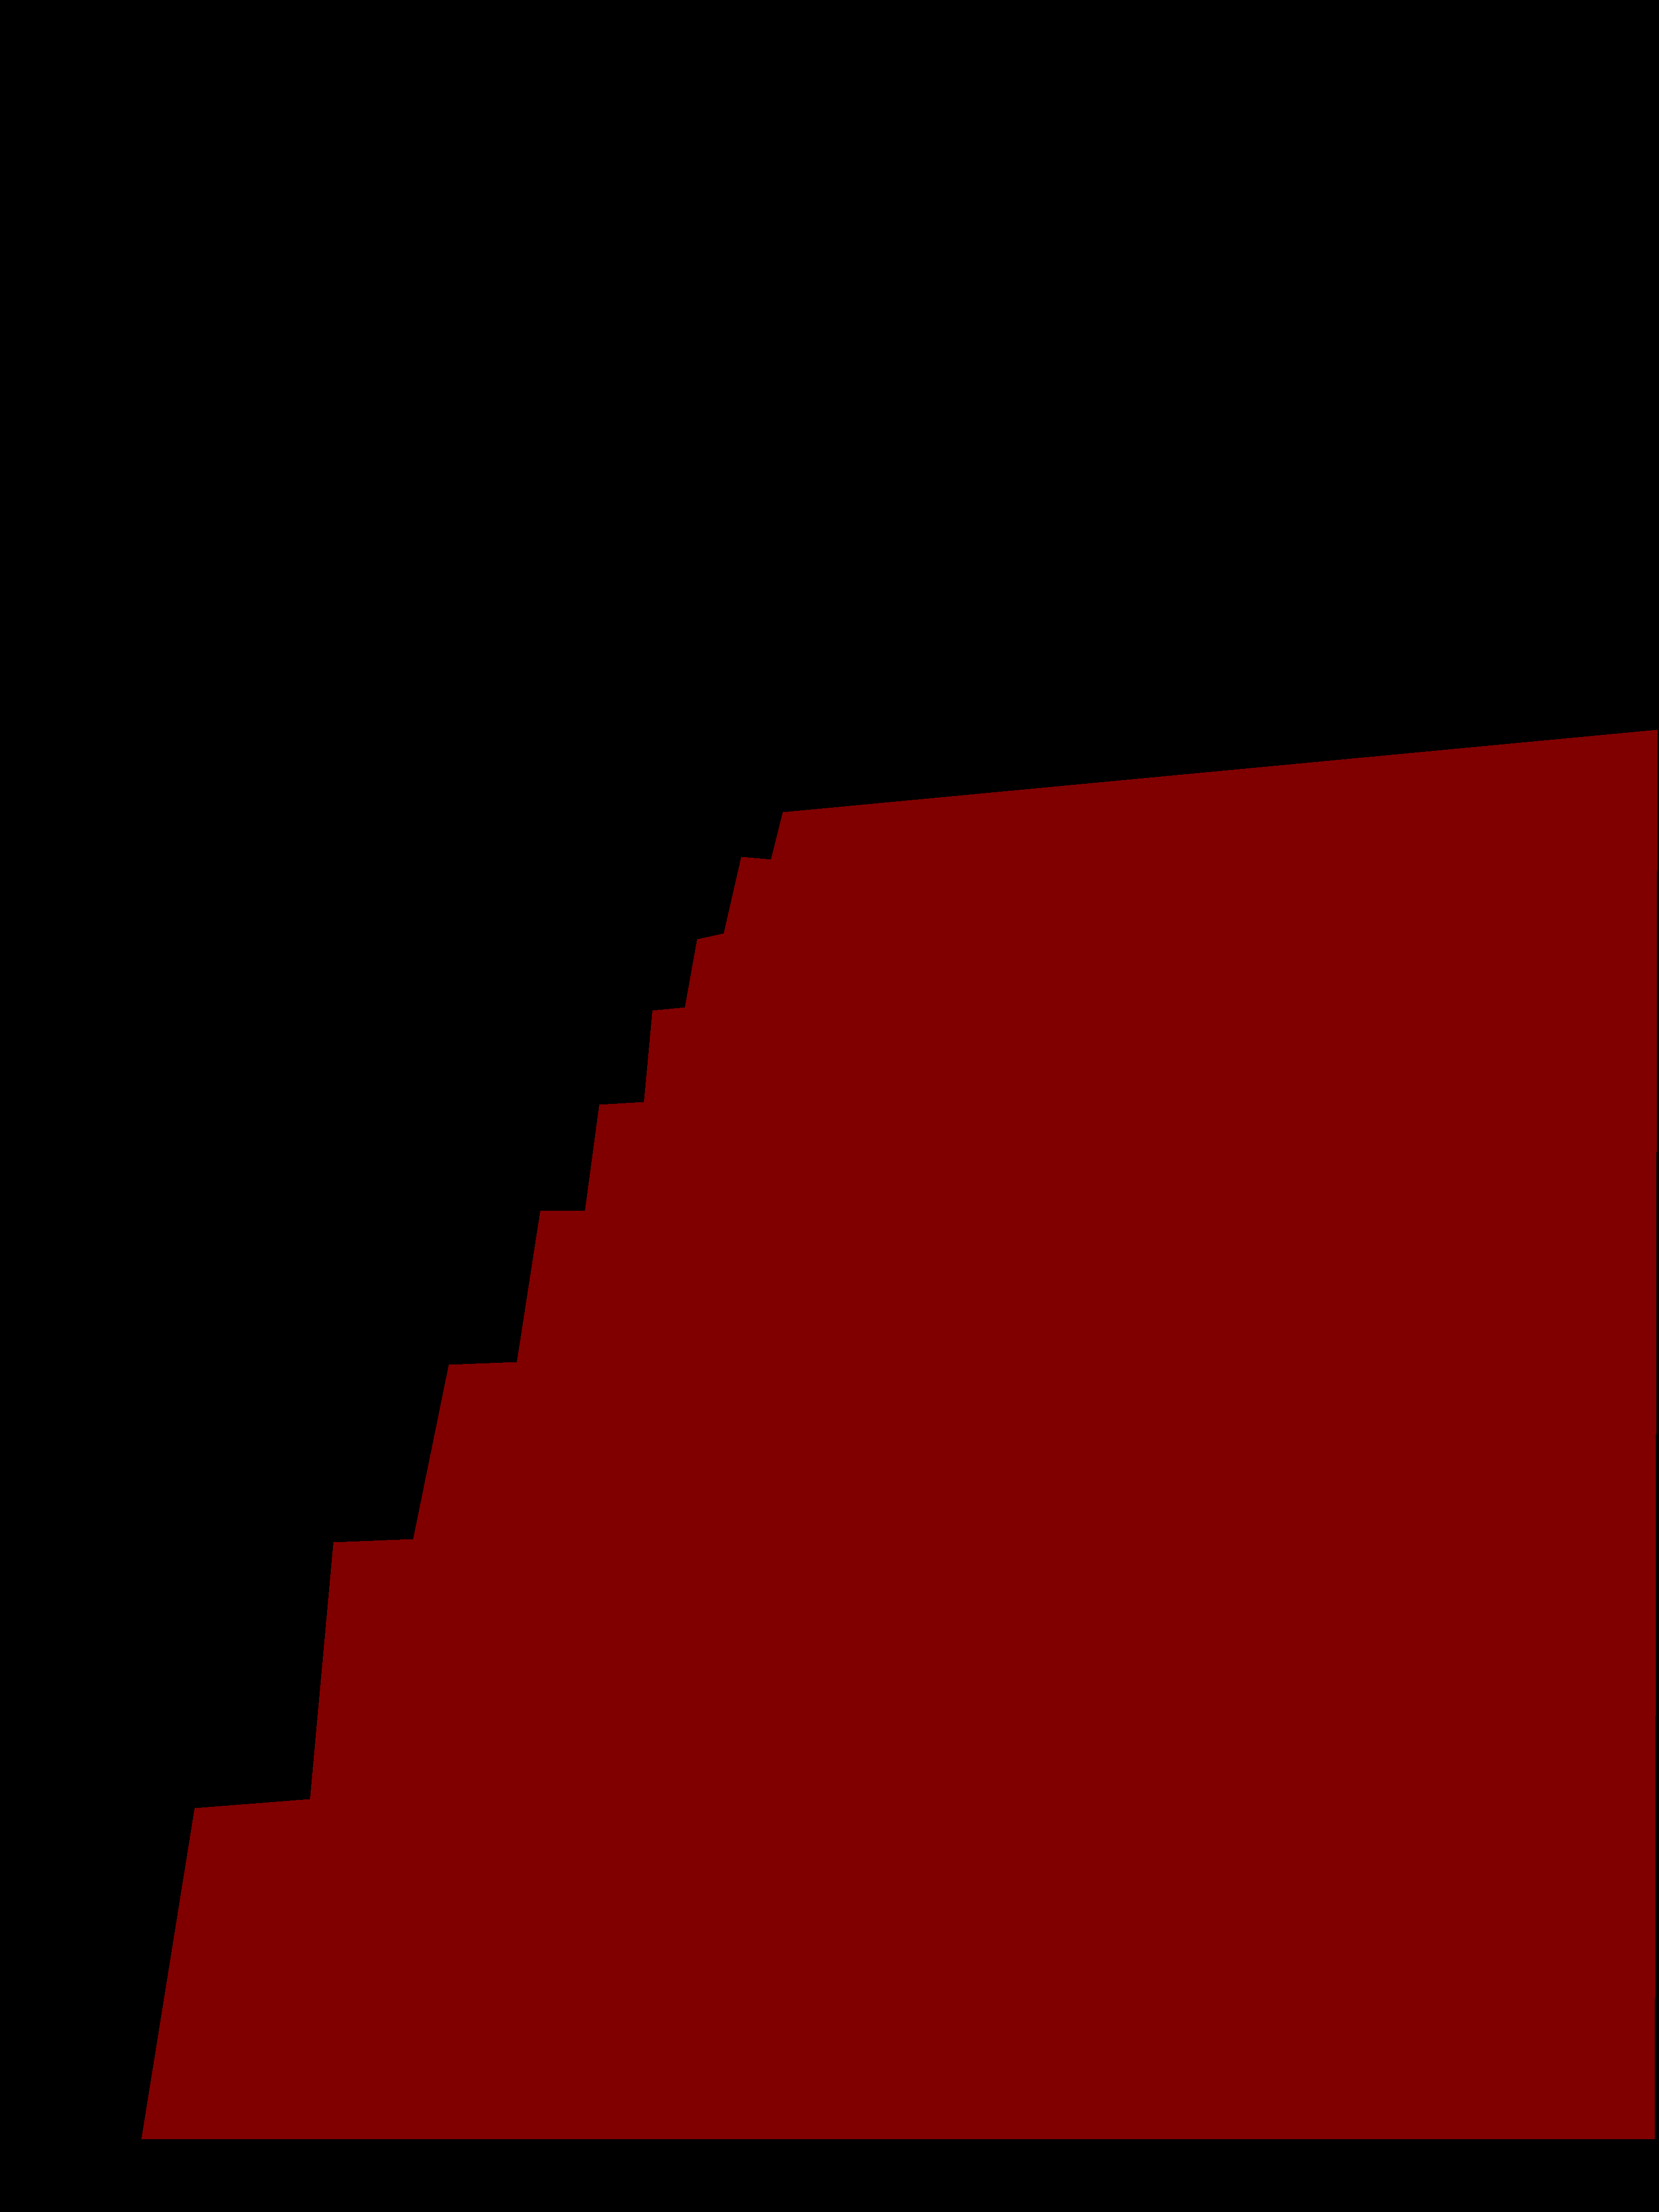stair: (141, 730, 1657, 2139)
